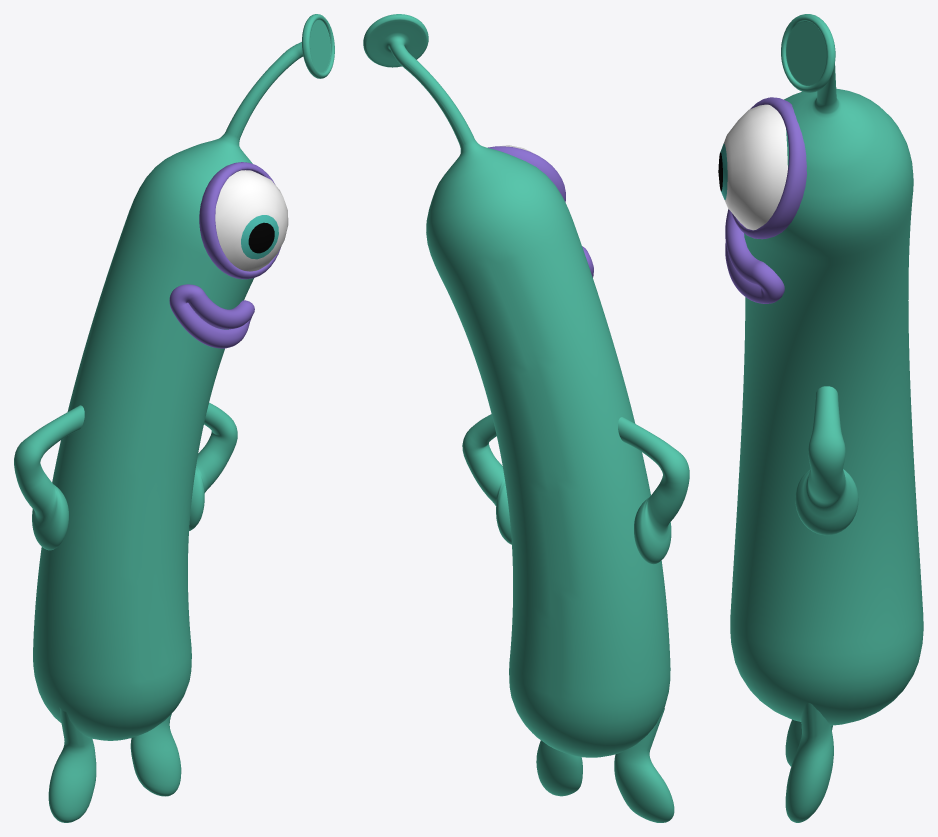
The model's file is alien.glb.
3 views of the same model, side by side, from view 1: azimuth 30°, elevation 25°; view 2: azimuth 150°, elevation 25°; view 3: azimuth 270°, elevation 25° (orthographic). The views are drawn at different scales.
Parts seen in each view (by area): view 1: alien; view 2: alien; view 3: alien.
Part boxes in pixels (bbox=[...]): alien: bbox=[14, 14, 334, 822]; alien: bbox=[363, 14, 689, 822]; alien: bbox=[718, 14, 923, 822].
Size of the model in its own units: 15.27 by 33.9 by 7.02.
